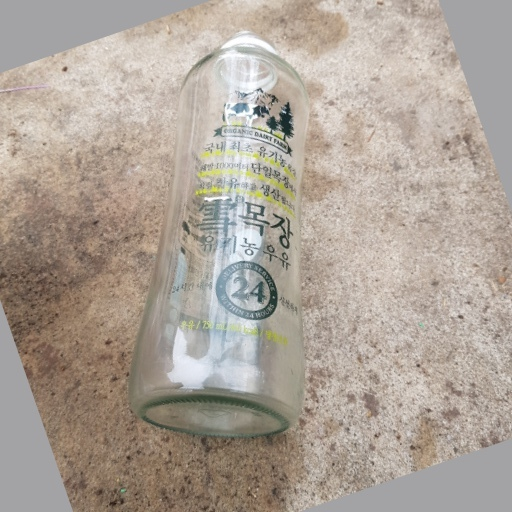Glass_4: (125, 30, 316, 438)
